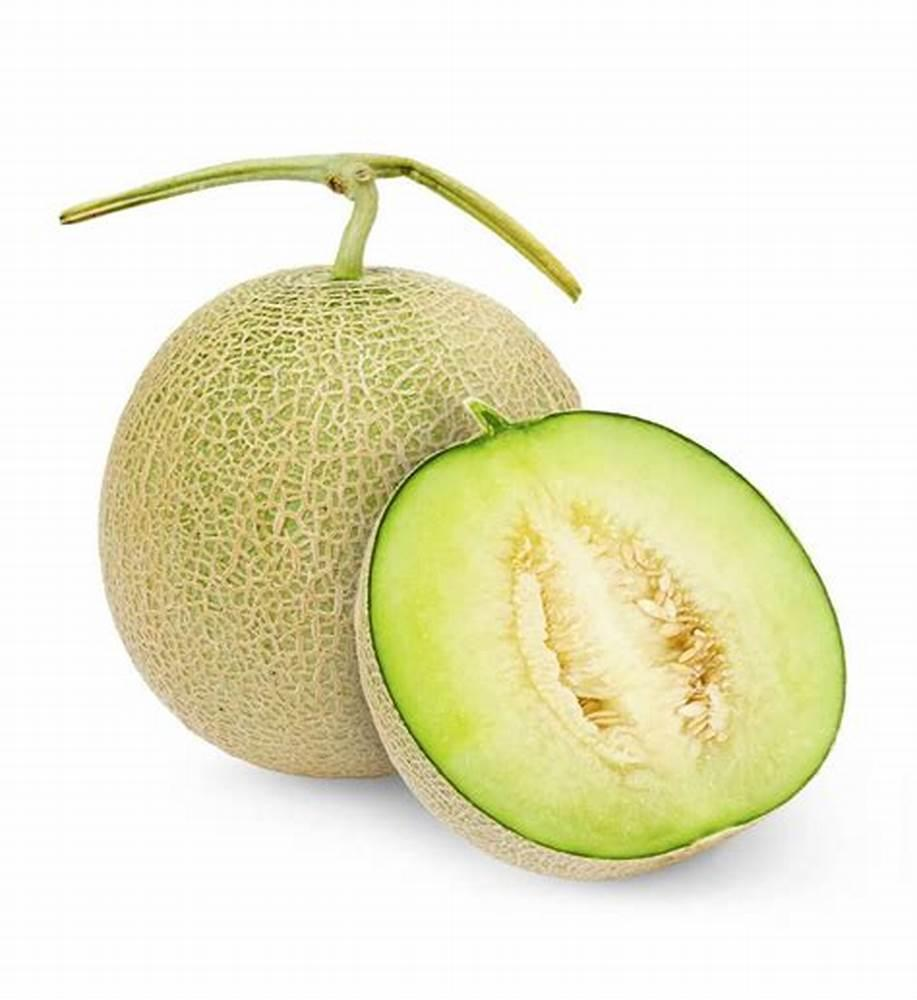Mango Unripe: (95, 148, 592, 770), (351, 406, 846, 888)
